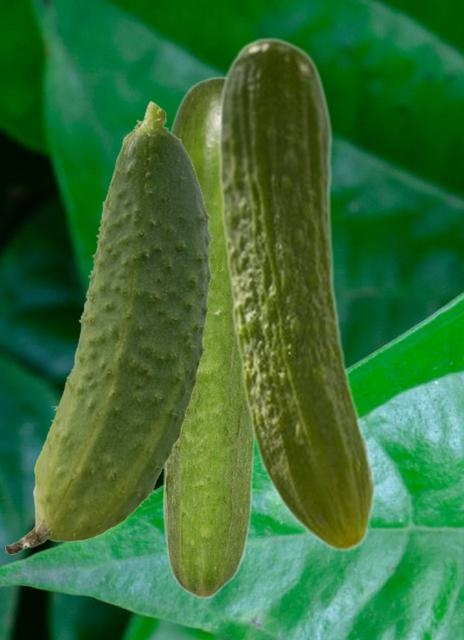cucumber: (5, 101, 213, 553), (217, 36, 375, 552), (162, 76, 255, 598)
